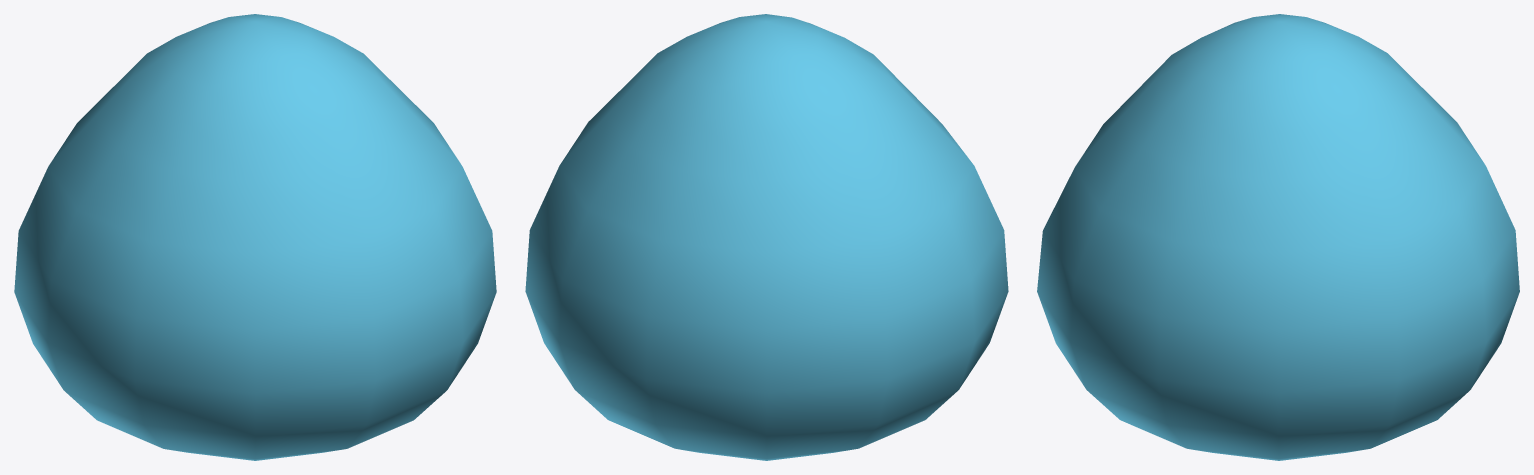
3 renders of one model, left to right at view 1: azimuth 30°, elevation 25°; view 2: azimuth 150°, elevation 25°; view 3: azimuth 270°, elevation 25°, orthographic.
Visible parts, largest first — view 1: 구체; view 2: 구체; view 3: 구체.
Part boxes in pixels (x1,y1,x2,y2): 구체: (14, 14, 496, 460); 구체: (525, 14, 1008, 460); 구체: (1037, 14, 1519, 460).
Size of the model in its own units: 113 by 101 by 113.
